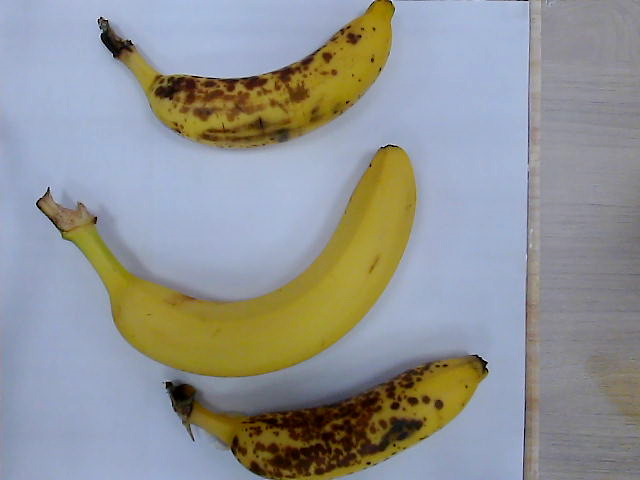fresh_banana: (36, 146, 419, 377)
rotten_banana: (96, 1, 394, 148), (168, 357, 487, 480)
